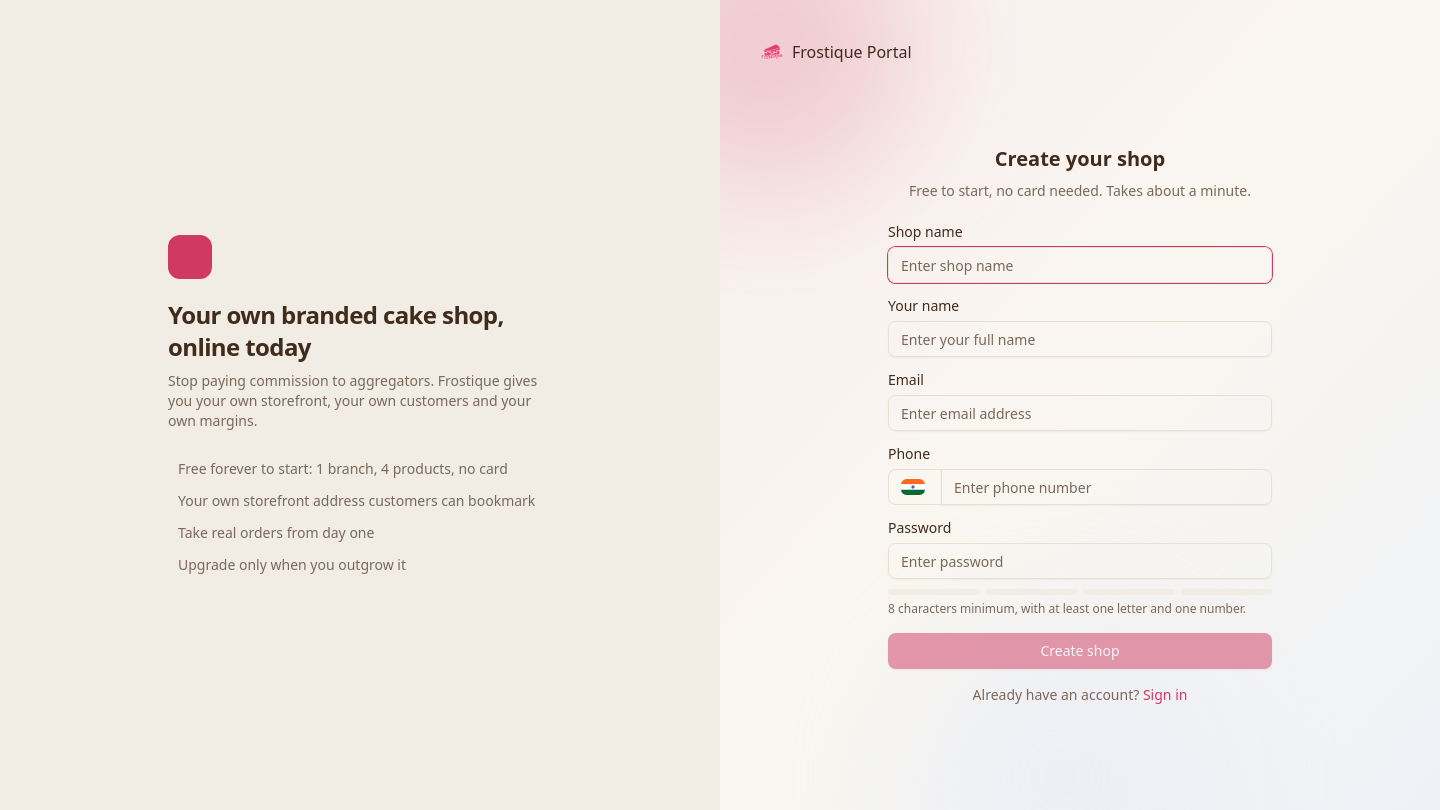
Scenario: RegisterPage: email availability › lets a free email through
Type "Golden Cake" into the field labelled "Shop name" at {"x": 1080, "y": 265}, box left=888, top=247, right=1272, bottom=283
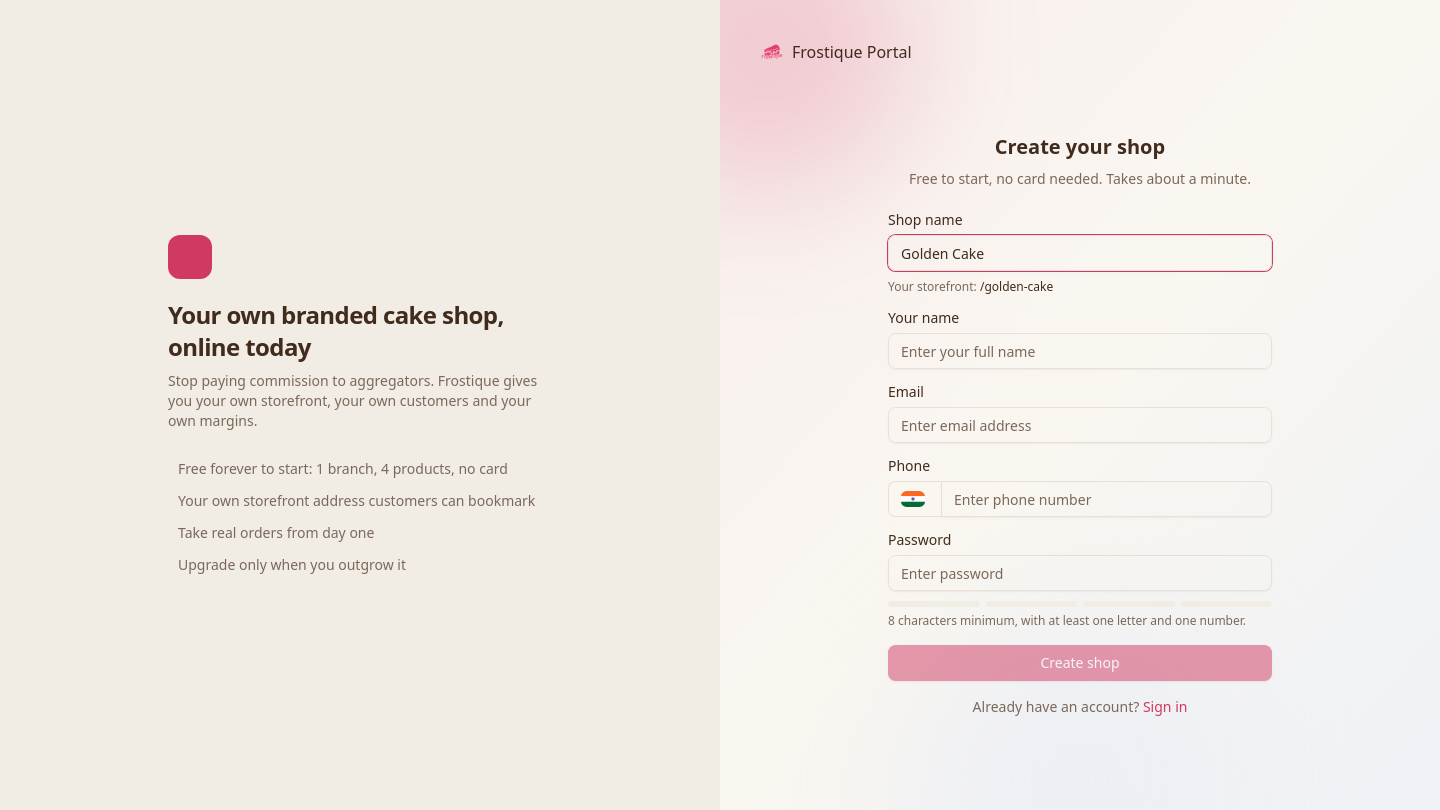
Type "Asha Mehta" into the field labelled "Your name" at {"x": 1080, "y": 351}, box left=888, top=333, right=1272, bottom=369
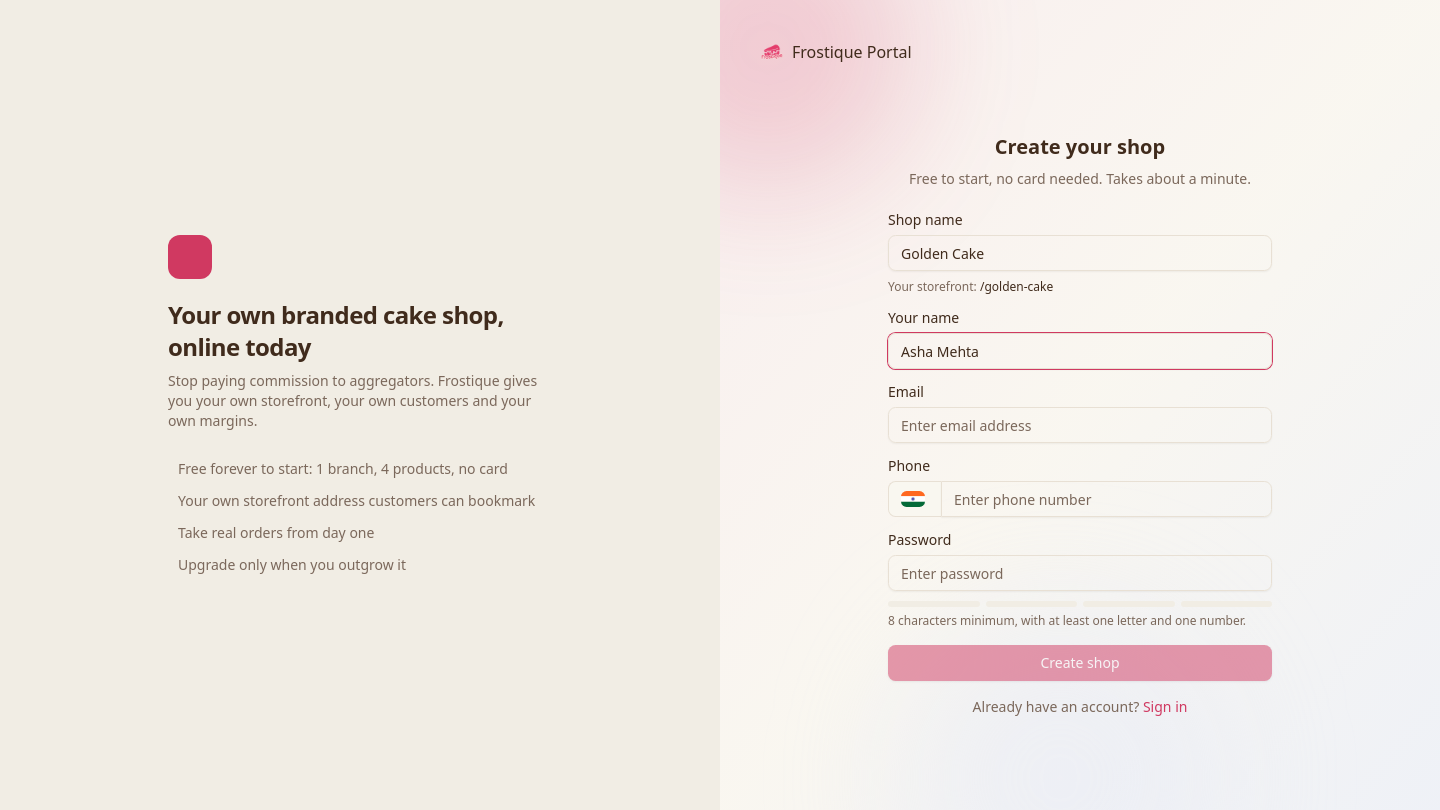
Type "asha@divinecake.com" into the field labelled "Email" at {"x": 1080, "y": 425}, box left=888, top=407, right=1272, bottom=443
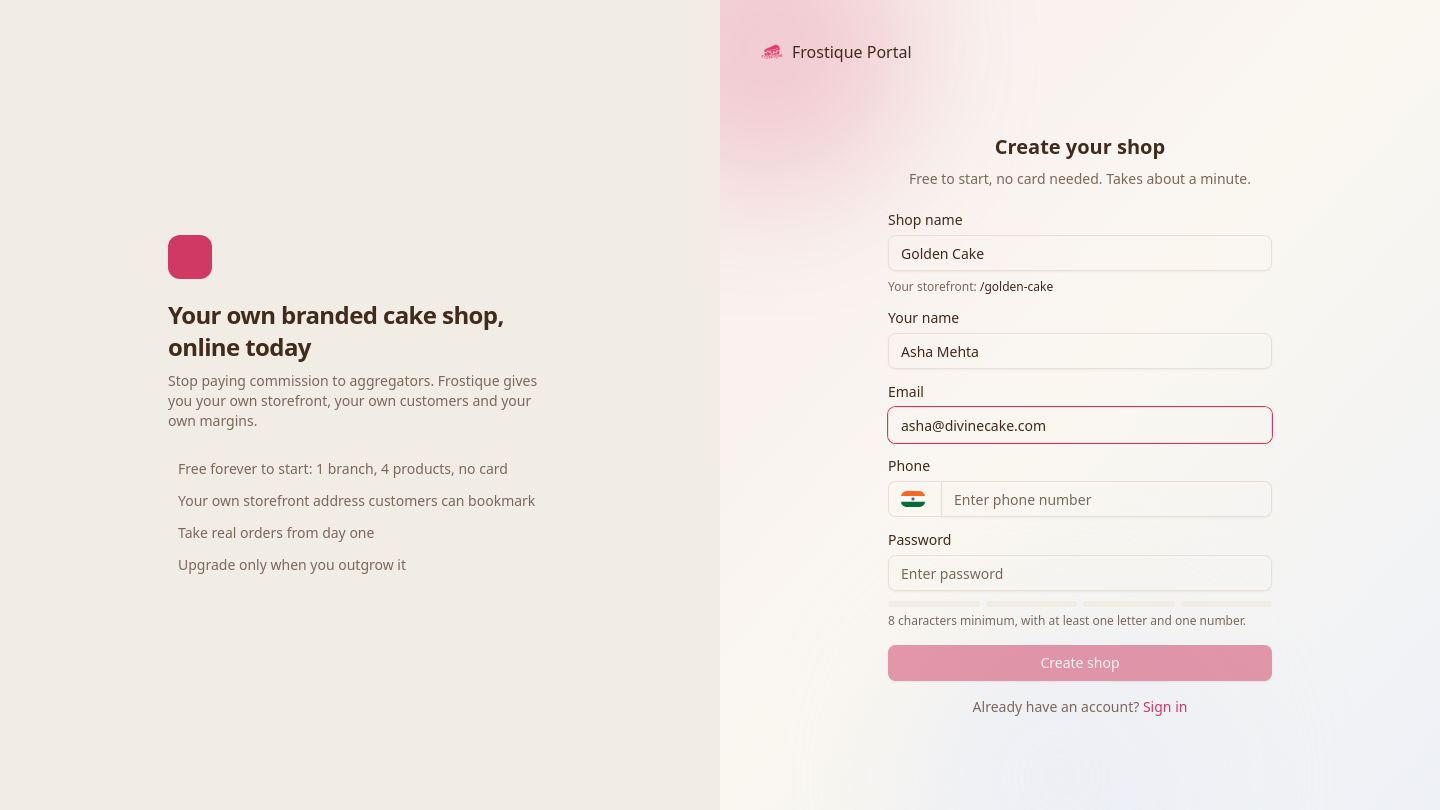
Type "9812345678" into the field labelled "Phone" at {"x": 1106, "y": 499}, box left=941, top=481, right=1272, bottom=517
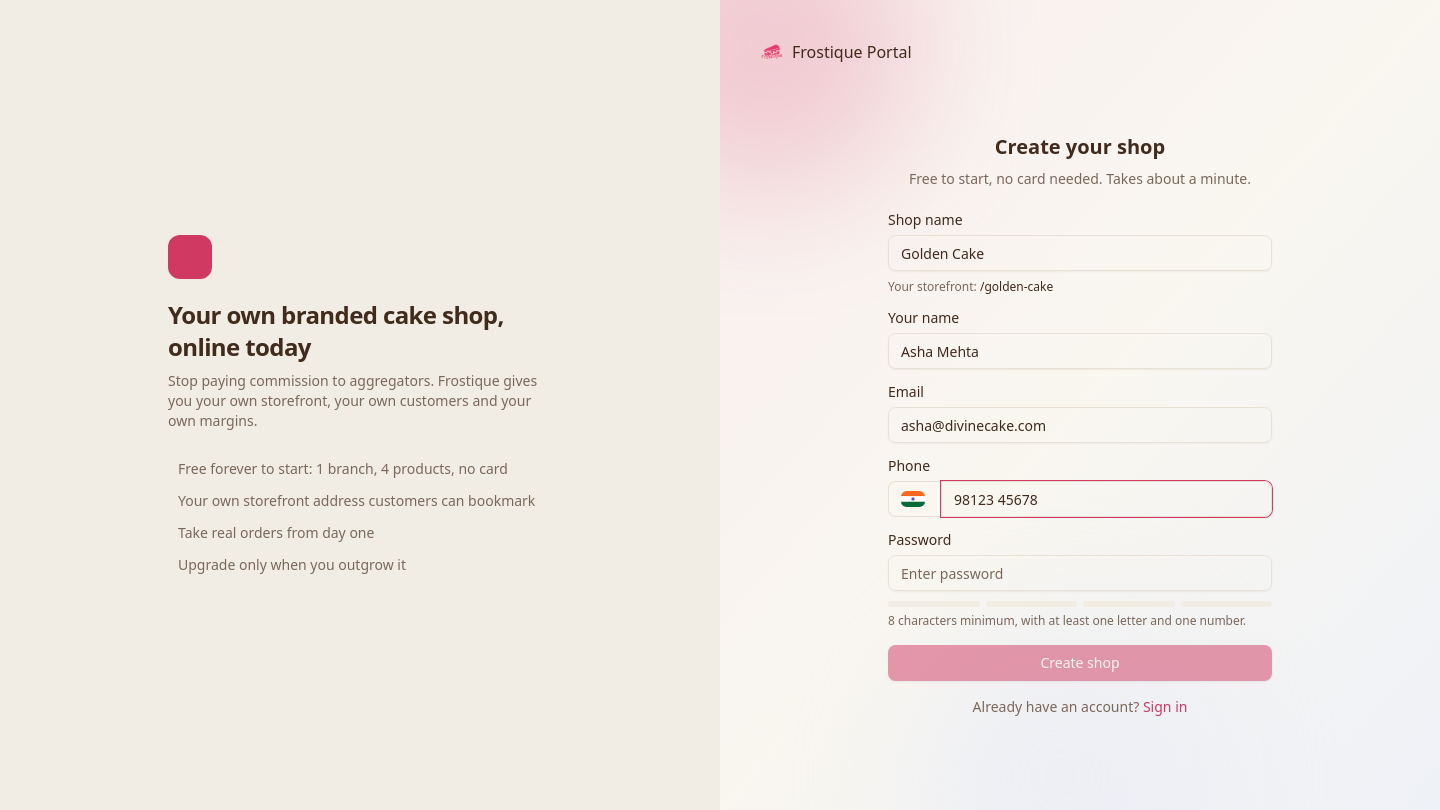
Type "Str0ngPass1" into the password field labelled "Password" at {"x": 1080, "y": 573}, box left=888, top=555, right=1272, bottom=591
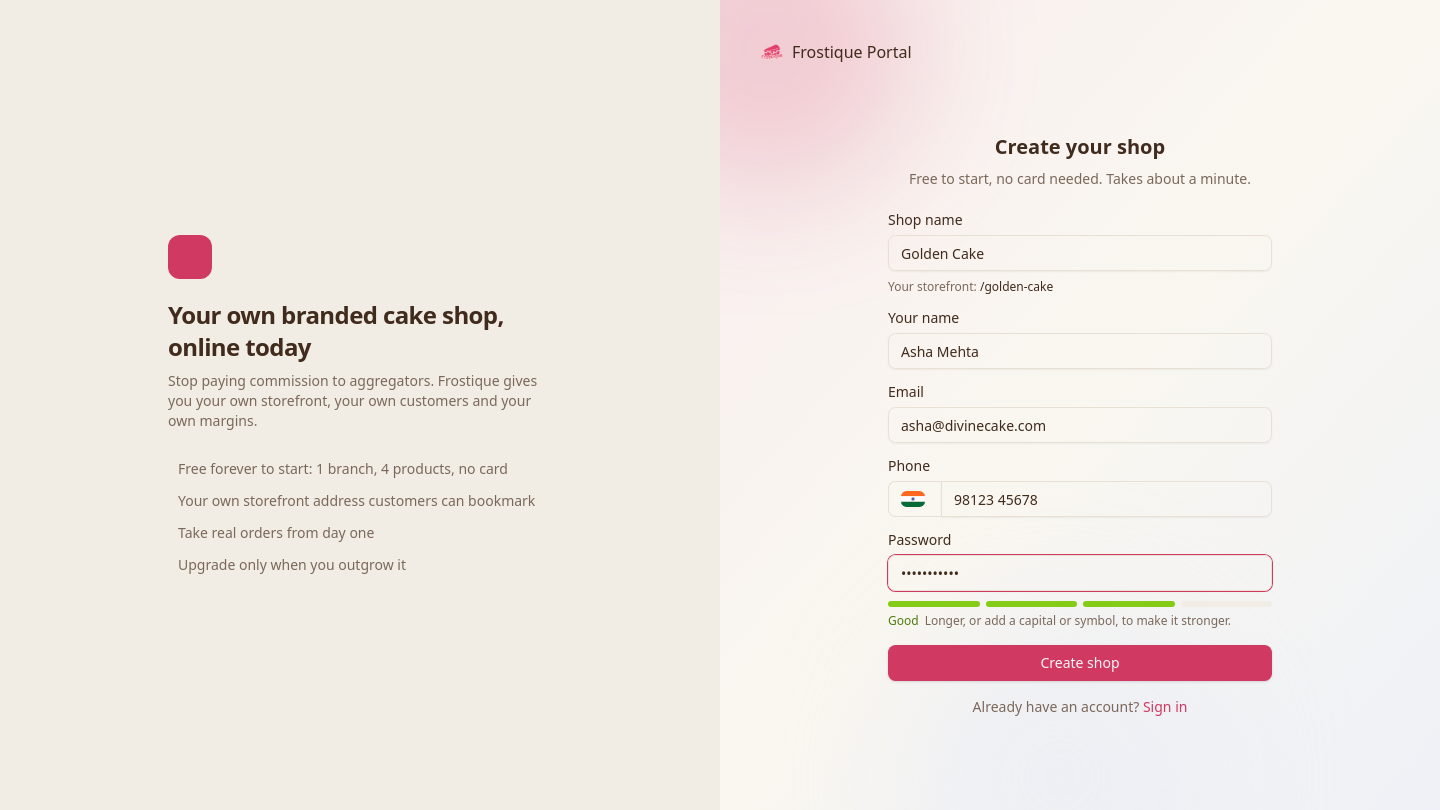
Expected: the button "Create shop" is enabled, left=888, top=645, right=1272, bottom=681
